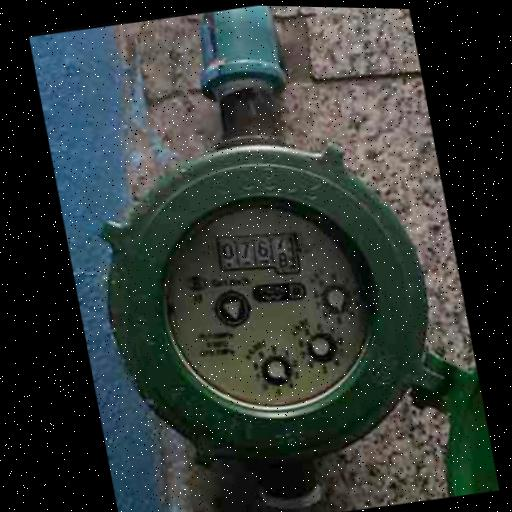0: (215, 237, 240, 270)
6: (251, 233, 276, 268)
7: (269, 231, 300, 274), (234, 235, 259, 269)
border_water_meter_number: (213, 225, 304, 286)
